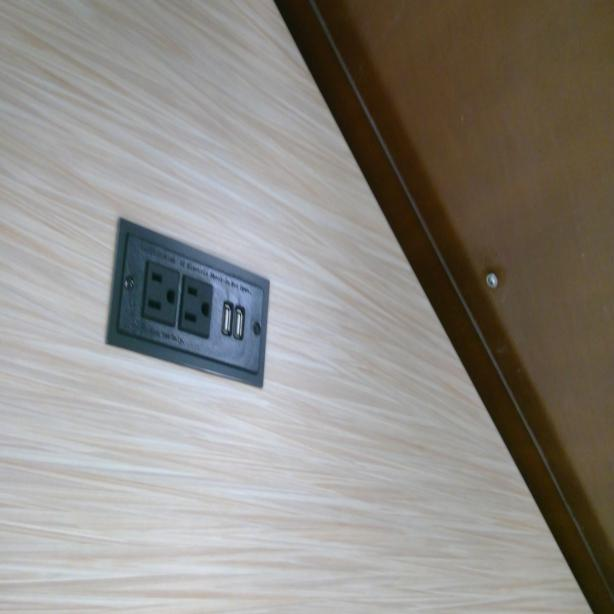typeb: (144, 267, 178, 327), (180, 280, 214, 339)
